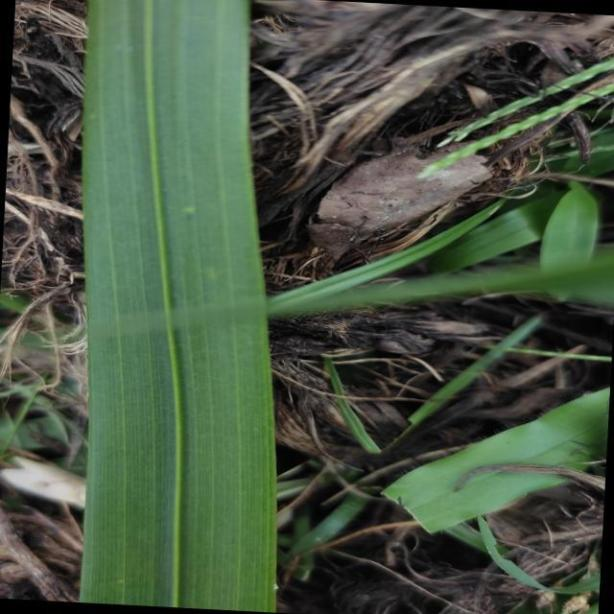Healthy: (77, 0, 267, 614)
